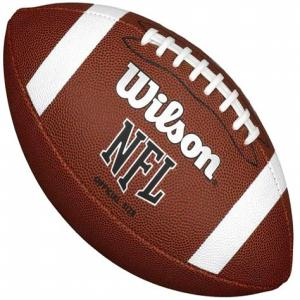Rugby: (3, 2, 293, 297)
